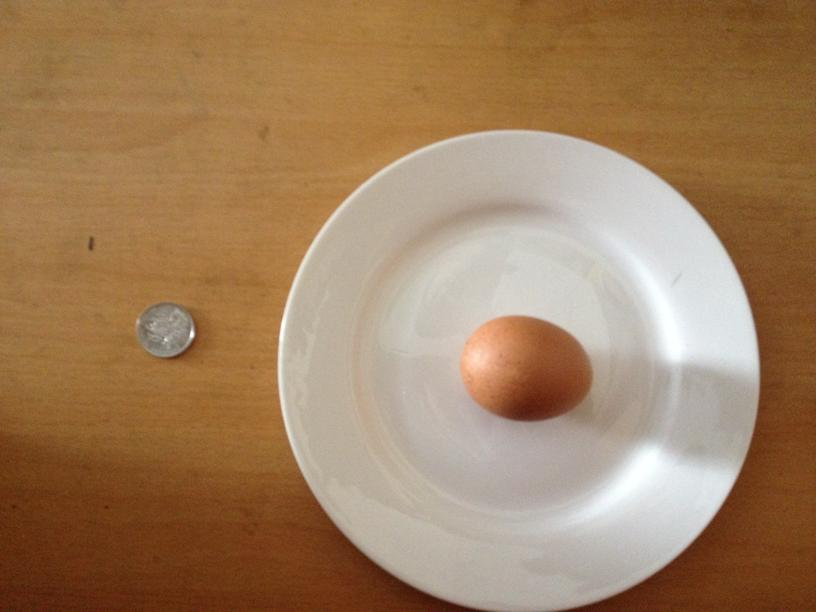coin: (135, 300, 196, 359)
egg: (458, 316, 592, 421)
